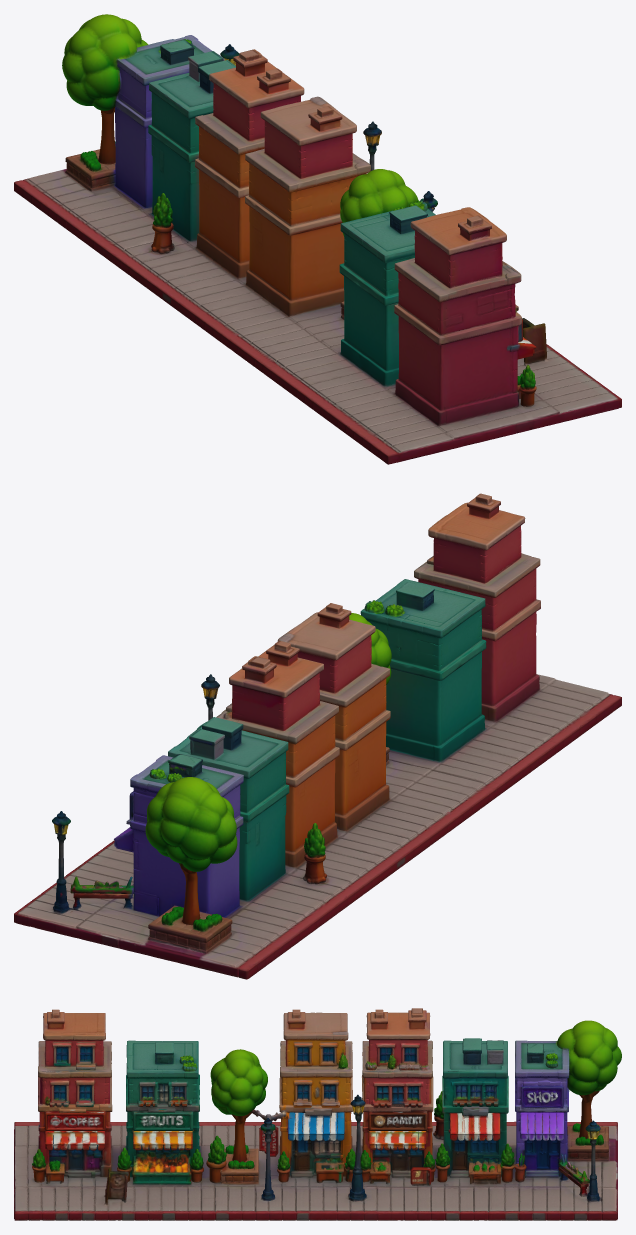
Rendered from city.glb.
3 views of the same model, one above another, from view 1: azimuth 30°, elevation 25°; view 2: azimuth 150°, elevation 25°; view 3: azimuth 270°, elevation 25° (orthographic). The views are drawn at different scales.
Visible parts, largest first — view 1: tripo_node_1880cd5d-0905-4939-aaa9-dcb6a9be2d59; view 2: tripo_node_1880cd5d-0905-4939-aaa9-dcb6a9be2d59; view 3: tripo_node_1880cd5d-0905-4939-aaa9-dcb6a9be2d59.
Part boxes in pixels (x1,y1,x2,y2): tripo_node_1880cd5d-0905-4939-aaa9-dcb6a9be2d59: (14, 14, 621, 464); tripo_node_1880cd5d-0905-4939-aaa9-dcb6a9be2d59: (14, 493, 621, 979); tripo_node_1880cd5d-0905-4939-aaa9-dcb6a9be2d59: (14, 1008, 621, 1220).
Size of the model in its own units: 0.3518 by 0.2882 by 0.9801.
Materials: 1 (1 with a texture image).
